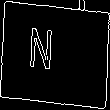N_S: (42, 28, 68, 82)
